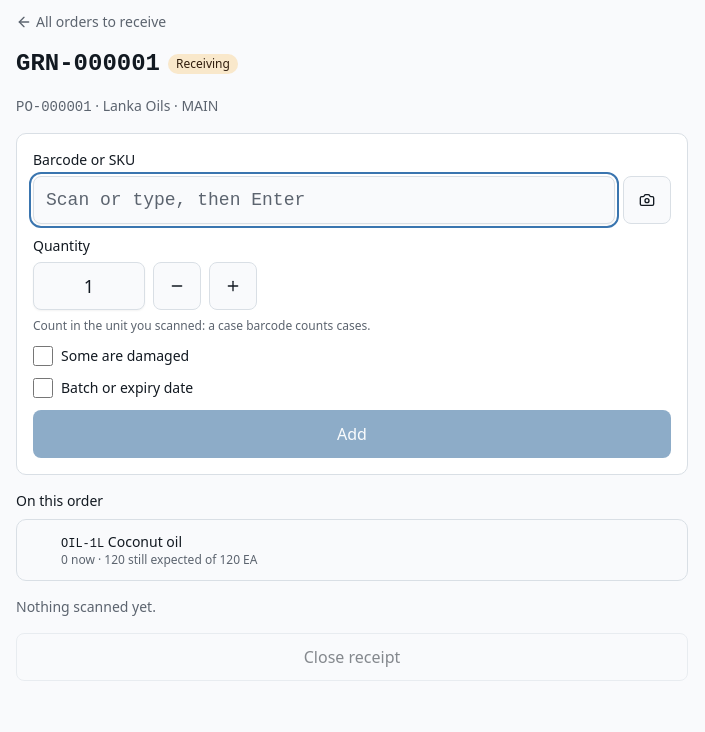
Test case: a scan retried after a network failure reuses its key, then the form clears for the next scan
Type "14791" into the field labelled "Barcode or SKU".
click(324, 200); type("14791")  # box [33, 176, 615, 224]
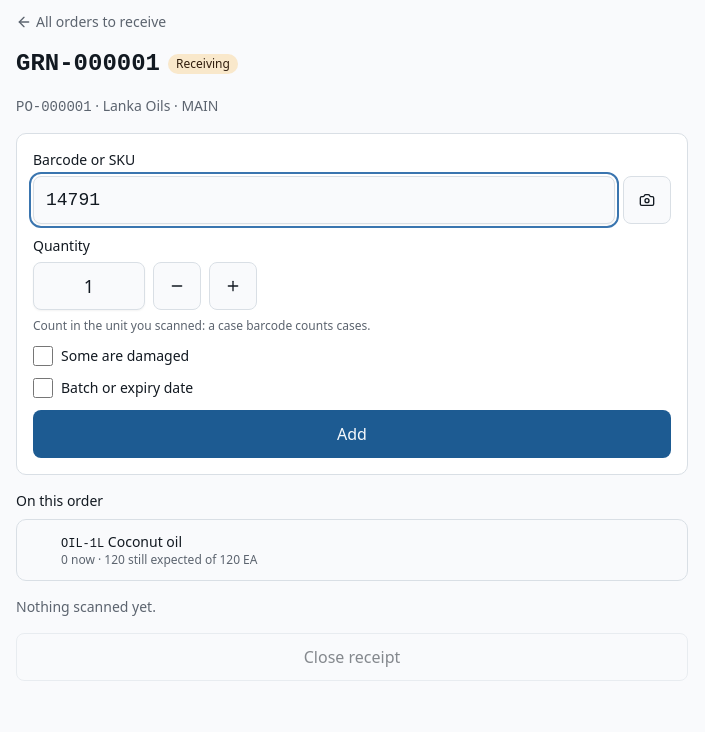
Click the button named "One more".
click(233, 286)  # box [209, 262, 257, 310]
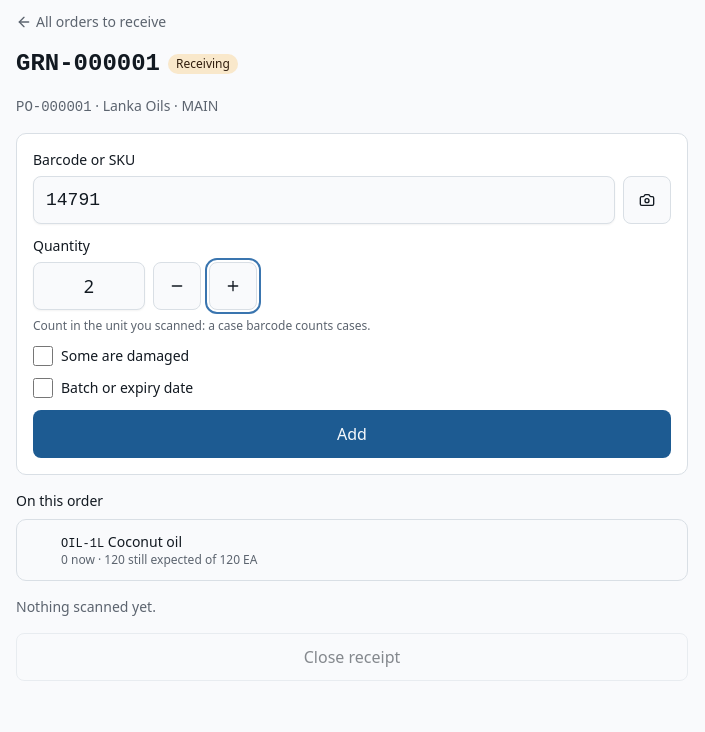
Click the button named "One more".
click(233, 286)  # box [209, 262, 257, 310]
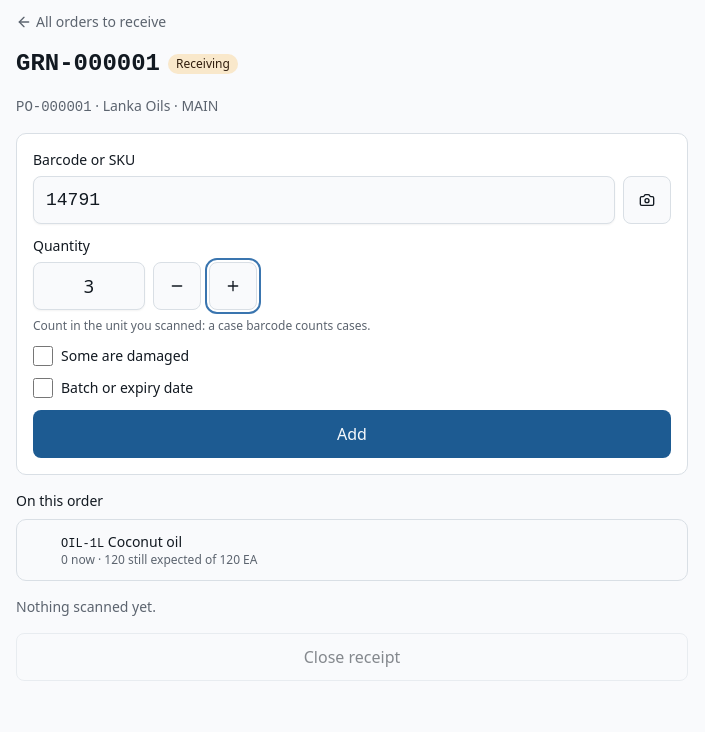
Click the button named "One more".
click(233, 286)  # box [209, 262, 257, 310]
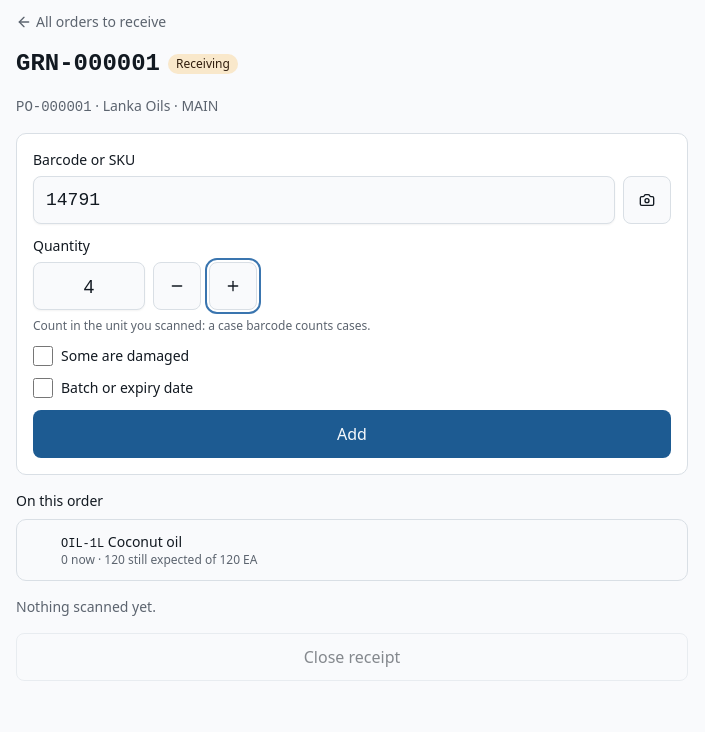
Click the button "Add".
click(352, 434)  # box [33, 410, 671, 458]
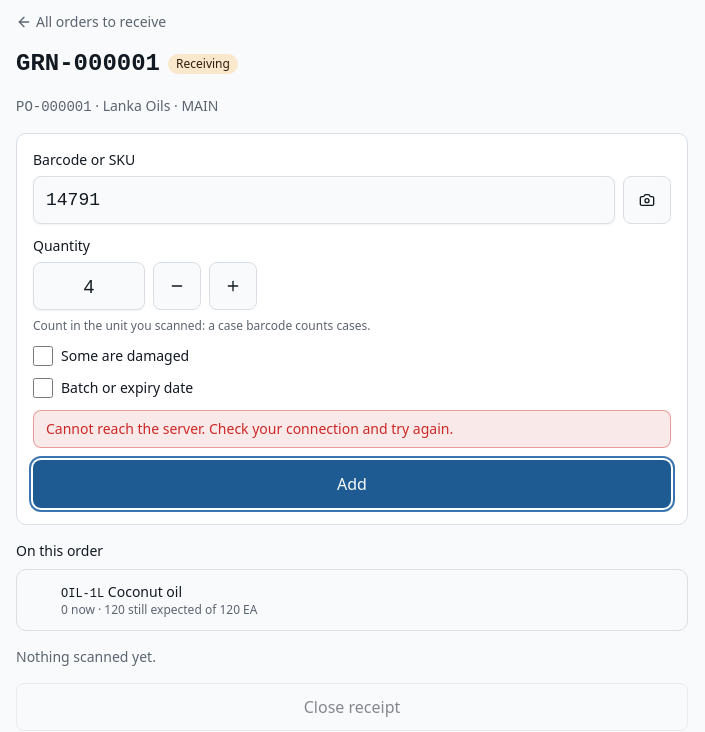
Expected: the text "Cannot reach the server. Check your connection and try again." is shown, [33, 410, 671, 448]
Click the button "Add".
click(352, 484)  # box [33, 460, 671, 508]
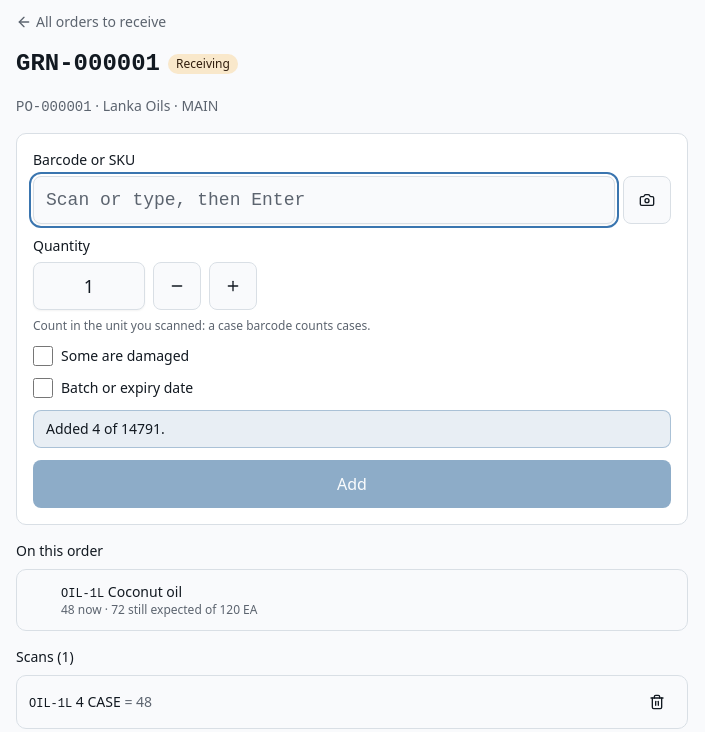
Expected: the text "Added 4 of 14791." is shown, [33, 410, 671, 448]
Expected: the field labelled "Barcode or SKU" is empty, [33, 176, 615, 224]
Expected: the text "48 now · 72 still expected of 120 EA" is shown, [61, 601, 258, 618]
